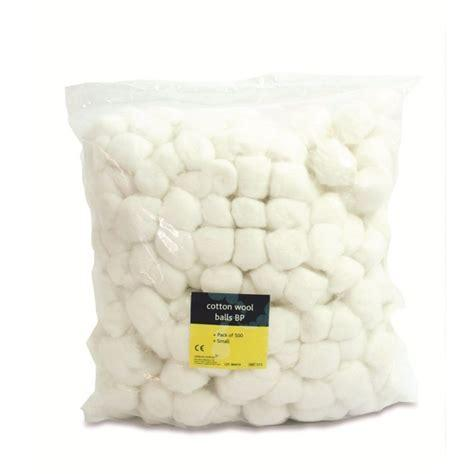cotton: (77, 104, 412, 428)
